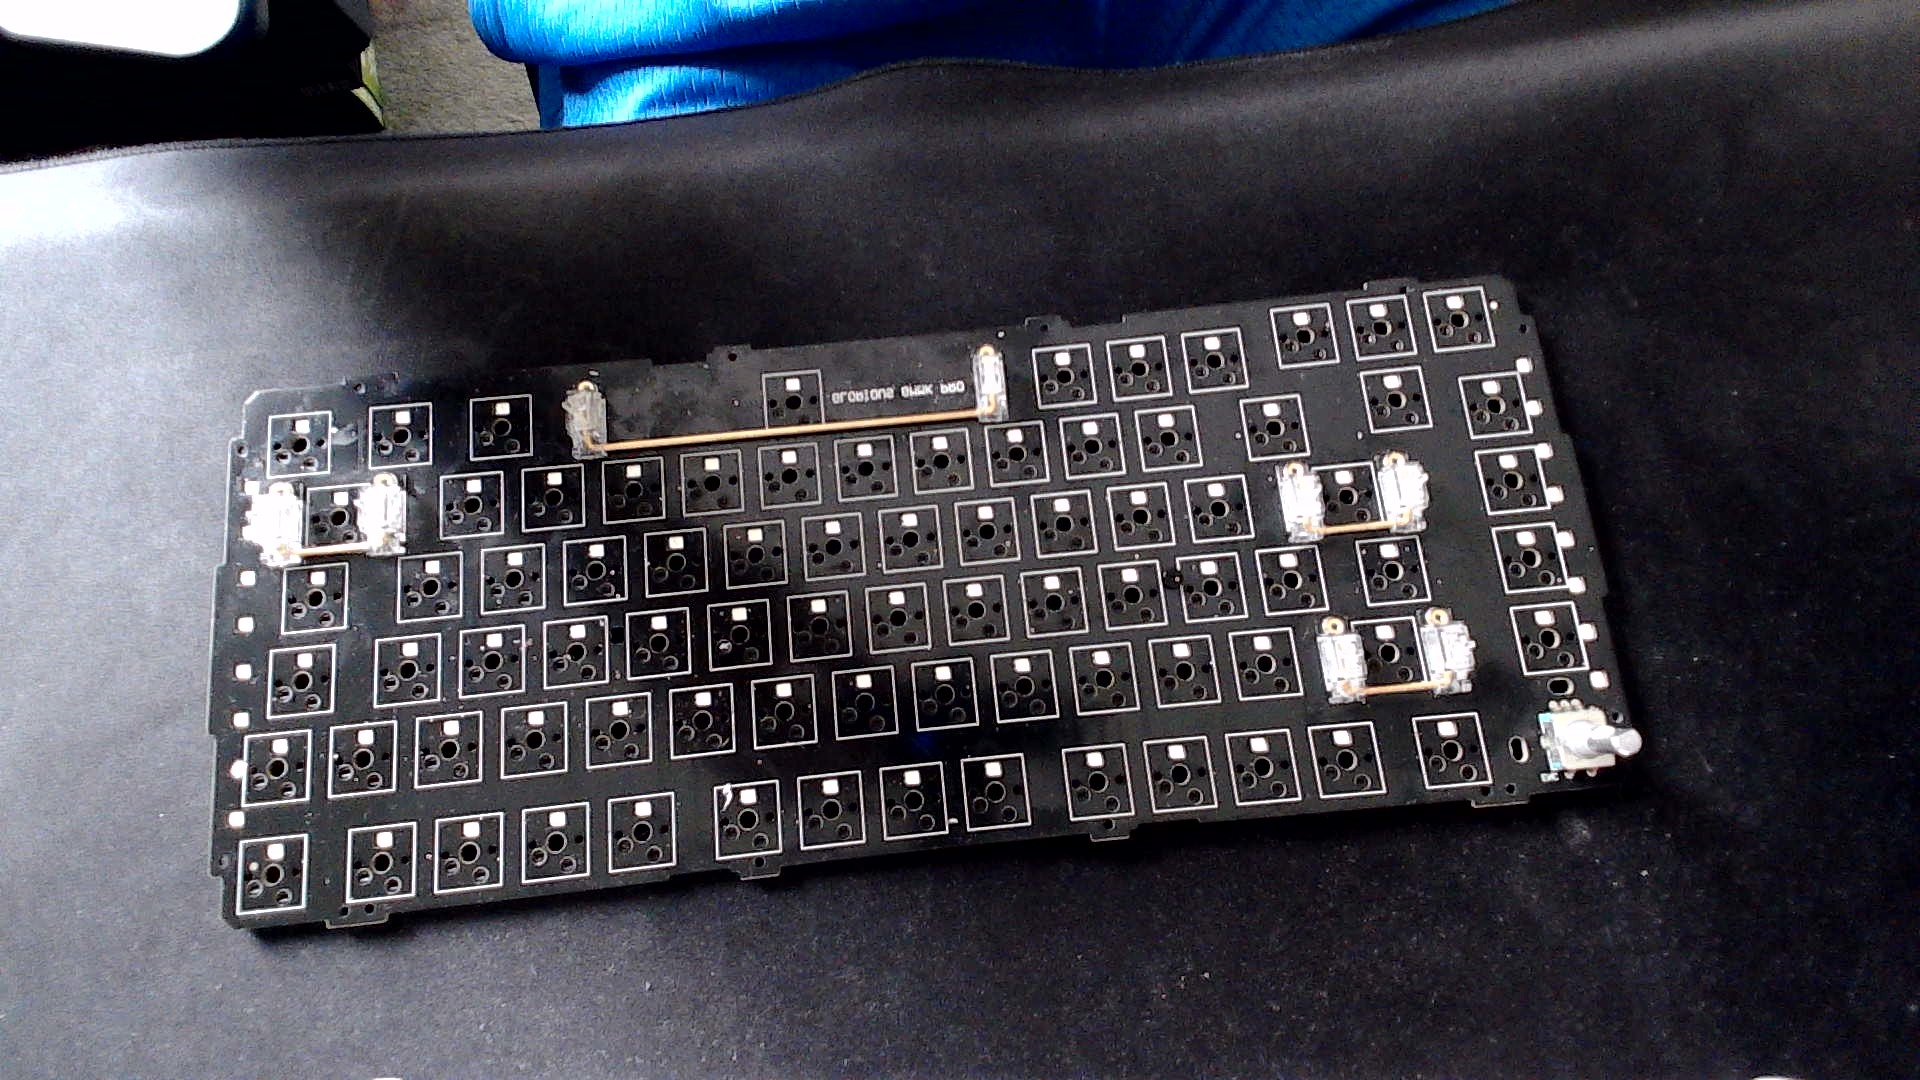pcb: (165, 248, 1706, 986)
